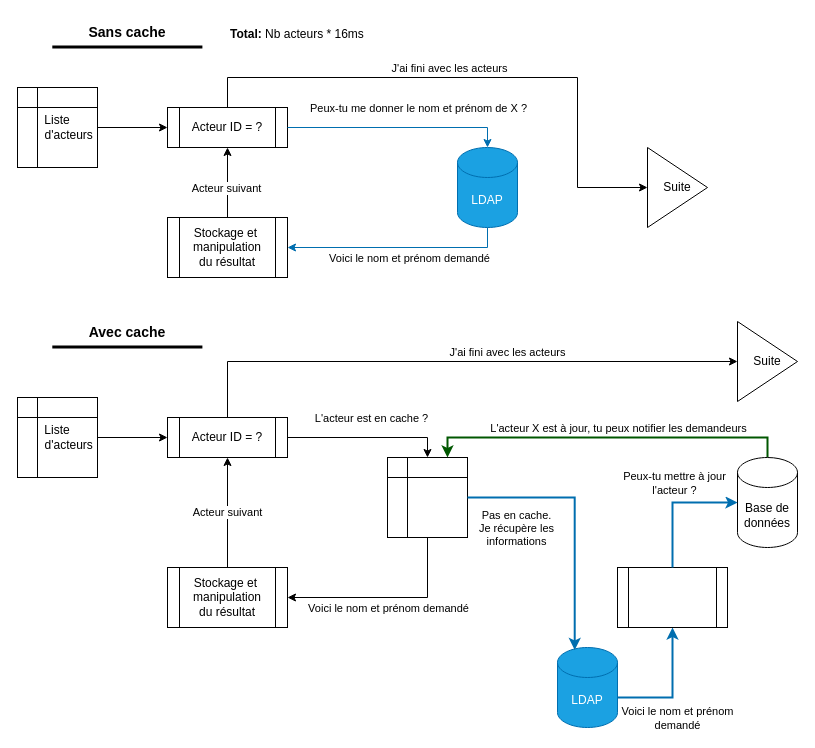
This 815x748 diagram has some shape labels left out. The box of each missing label's shape, as (x1, y1, x2, y2) in pixels:
Cache: (386, 456, 468, 538)
Prépare les données: (616, 566, 728, 628)
